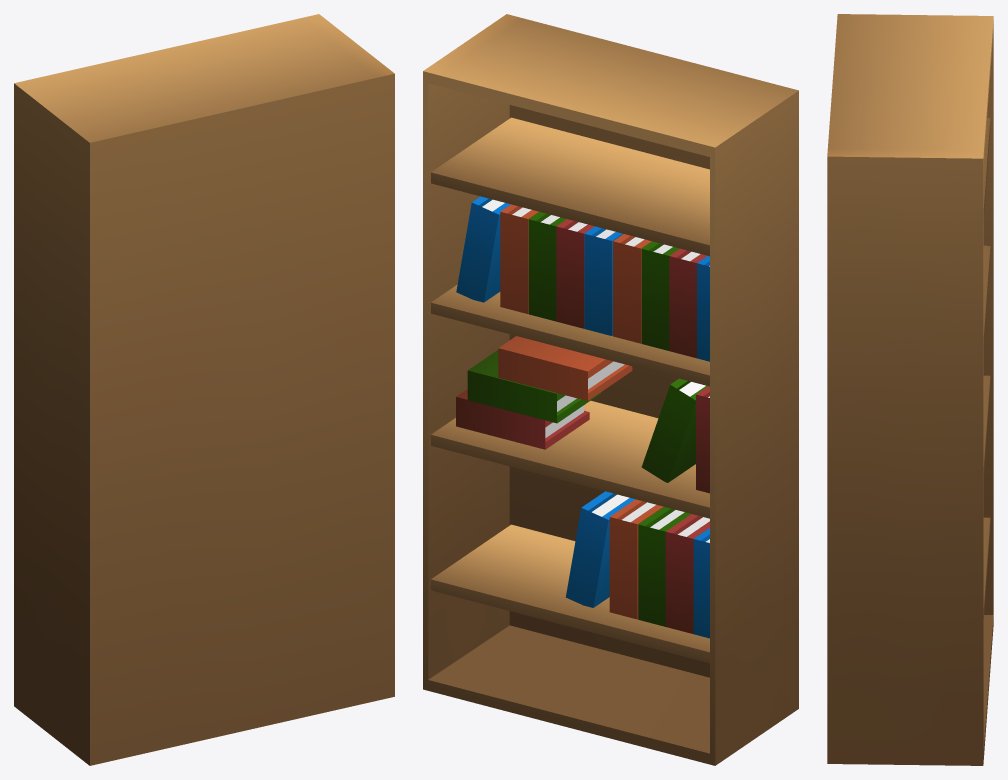
Rendered from BookcaseWbooks.fbx.
3 renders of one model, left to right at view 1: azimuth 30°, elevation 25°; view 2: azimuth 150°, elevation 25°; view 3: azimuth 270°, elevation 25°, orthographic. The views are drawn at different scales.
Visible parts, largest first — view 1: Book; view 2: Book; view 3: Book.
Boxes of the visible parts, left/top/right/bottom form: Book: left=14, top=14, right=394, bottom=765; Book: left=423, top=14, right=798, bottom=765; Book: left=827, top=14, right=993, bottom=765.
Size of the model in its own units: 240 by 471 by 117.
